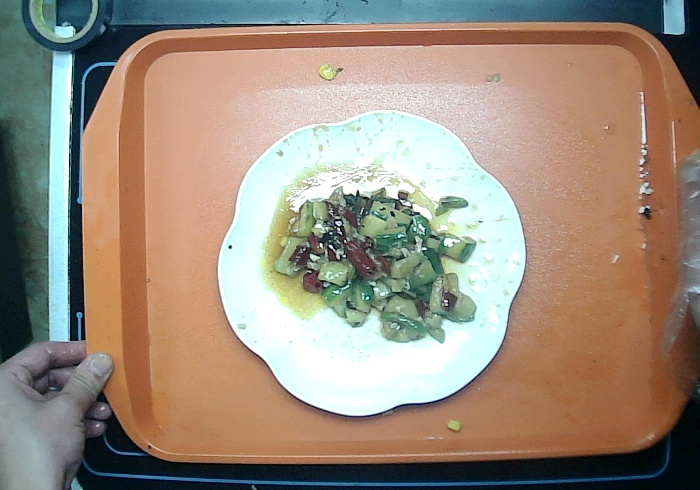HZYJPL-Bai_Se_Hua_Duo_Wan: (194, 94, 535, 436)
